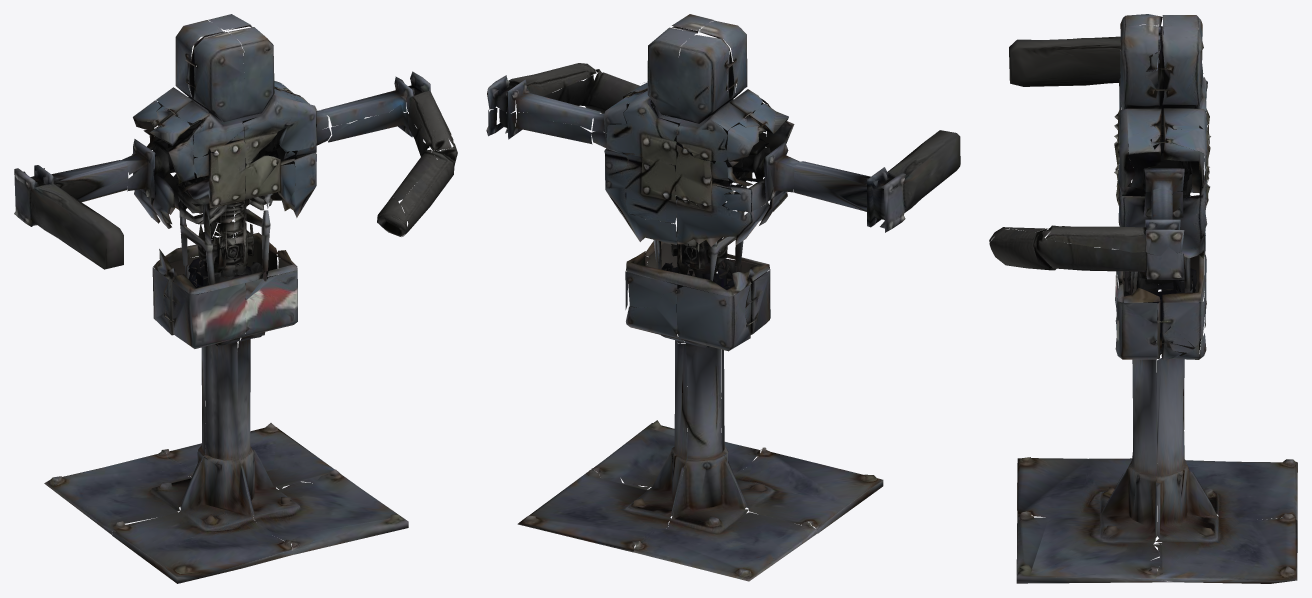
File: dummy_a.glb
3 views of the same model, side by side, from view 1: azimuth 30°, elevation 25°; view 2: azimuth 150°, elevation 25°; view 3: azimuth 270°, elevation 25° (orthographic). The views are drawn at different scales.
Parts seen in each view (by area): view 1: Mesh; view 2: Mesh; view 3: Mesh.
Boxes of the visible parts, x1,y1,x2,y2 form: Mesh: [14, 14, 457, 583]; Mesh: [486, 14, 960, 581]; Mesh: [989, 14, 1297, 583].
Bounding box in the file's own units: 1.6 × 1.8 × 1.01.
1 material, 1 textured.
